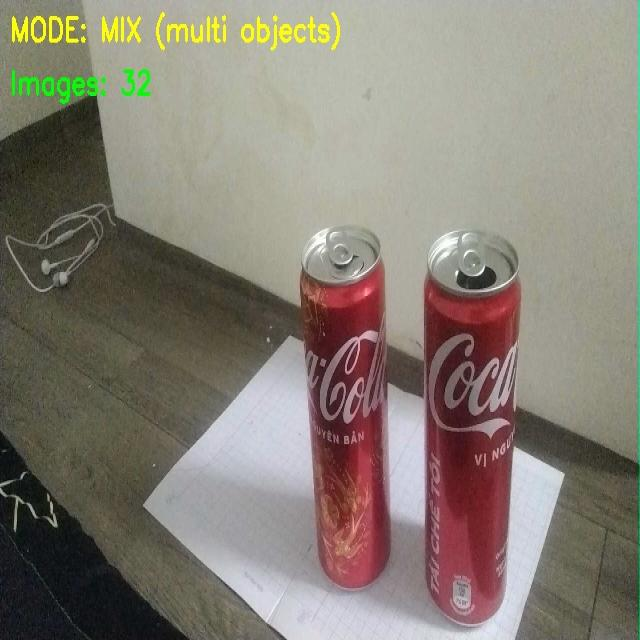Coca: (290, 196, 399, 594)
Coca_open: (418, 212, 539, 624)
